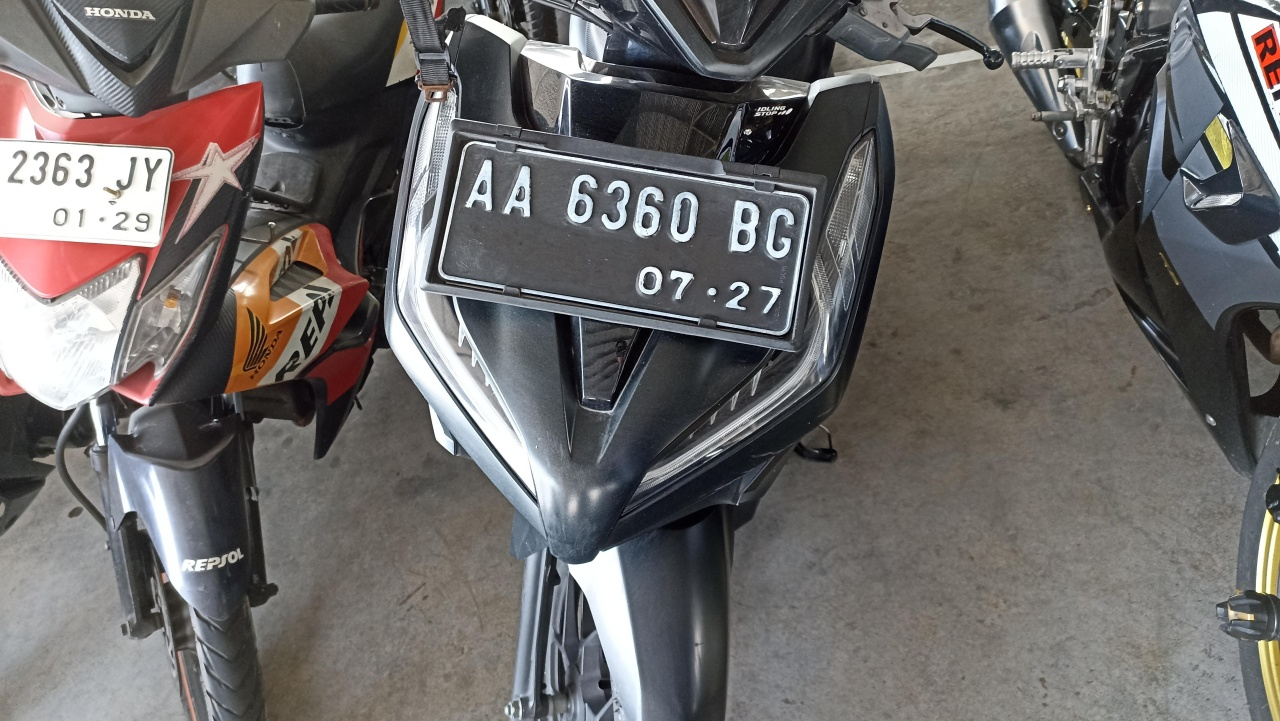plate: (430, 124, 821, 347)
